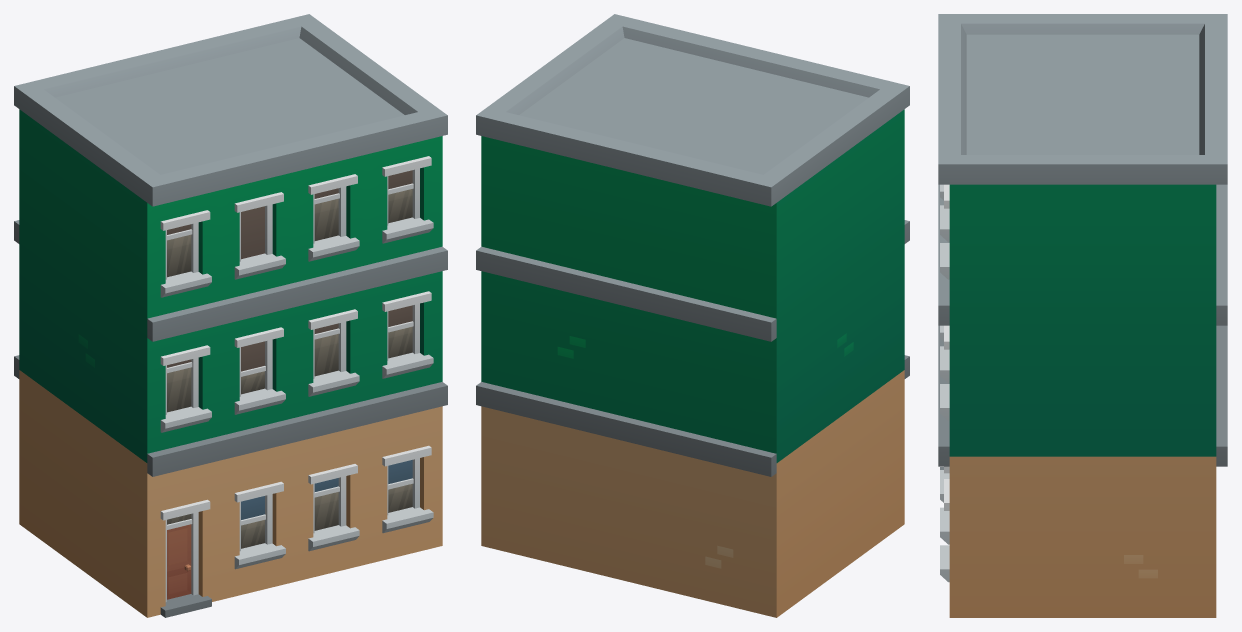
The model's file is building_D_withoutBase-processed.glb.
3 views of the same model, side by side, from view 1: azimuth 30°, elevation 25°; view 2: azimuth 150°, elevation 25°; view 3: azimuth 270°, elevation 25° (orthographic). The views are drawn at different scales.
Visible parts, largest first — view 1: building_D_withoutBase; view 2: building_D_withoutBase; view 3: building_D_withoutBase.
Boxes of the visible parts, <box> form: building_D_withoutBase: <box>14,14,447,617</box>; building_D_withoutBase: <box>476,14,909,617</box>; building_D_withoutBase: <box>938,14,1227,617</box>.
Size of the model in its own units: 1.61 by 2.25 by 1.3.
Materials: 1 (1 with a texture image).
